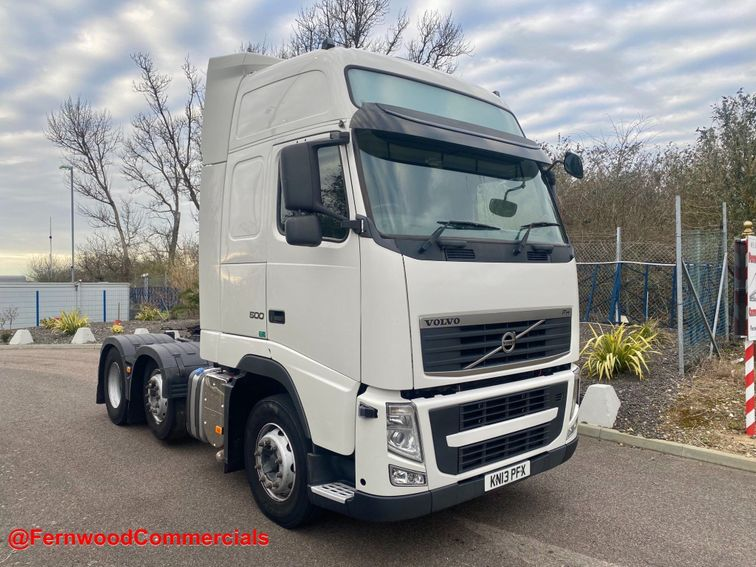Semi: (94, 46, 578, 528)
